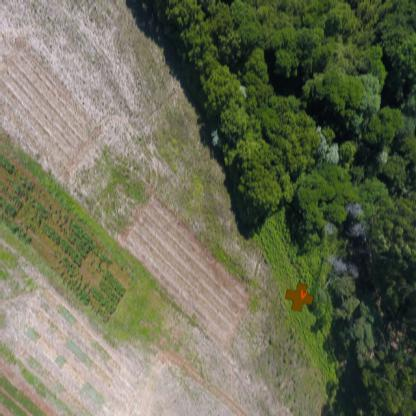V: (300, 290, 308, 300)
plus: (284, 282, 314, 312)
